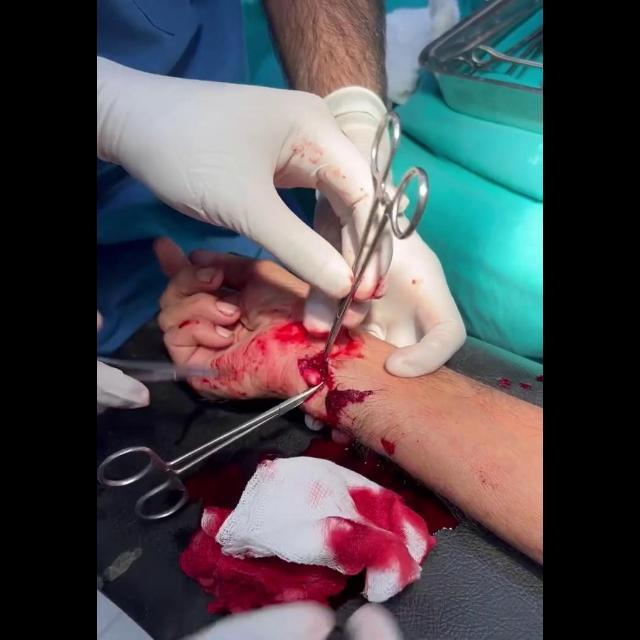blood: (179, 442, 456, 613), (244, 298, 329, 387), (325, 380, 377, 425), (196, 354, 245, 398), (330, 326, 366, 368), (380, 437, 396, 458), (179, 320, 198, 331)
